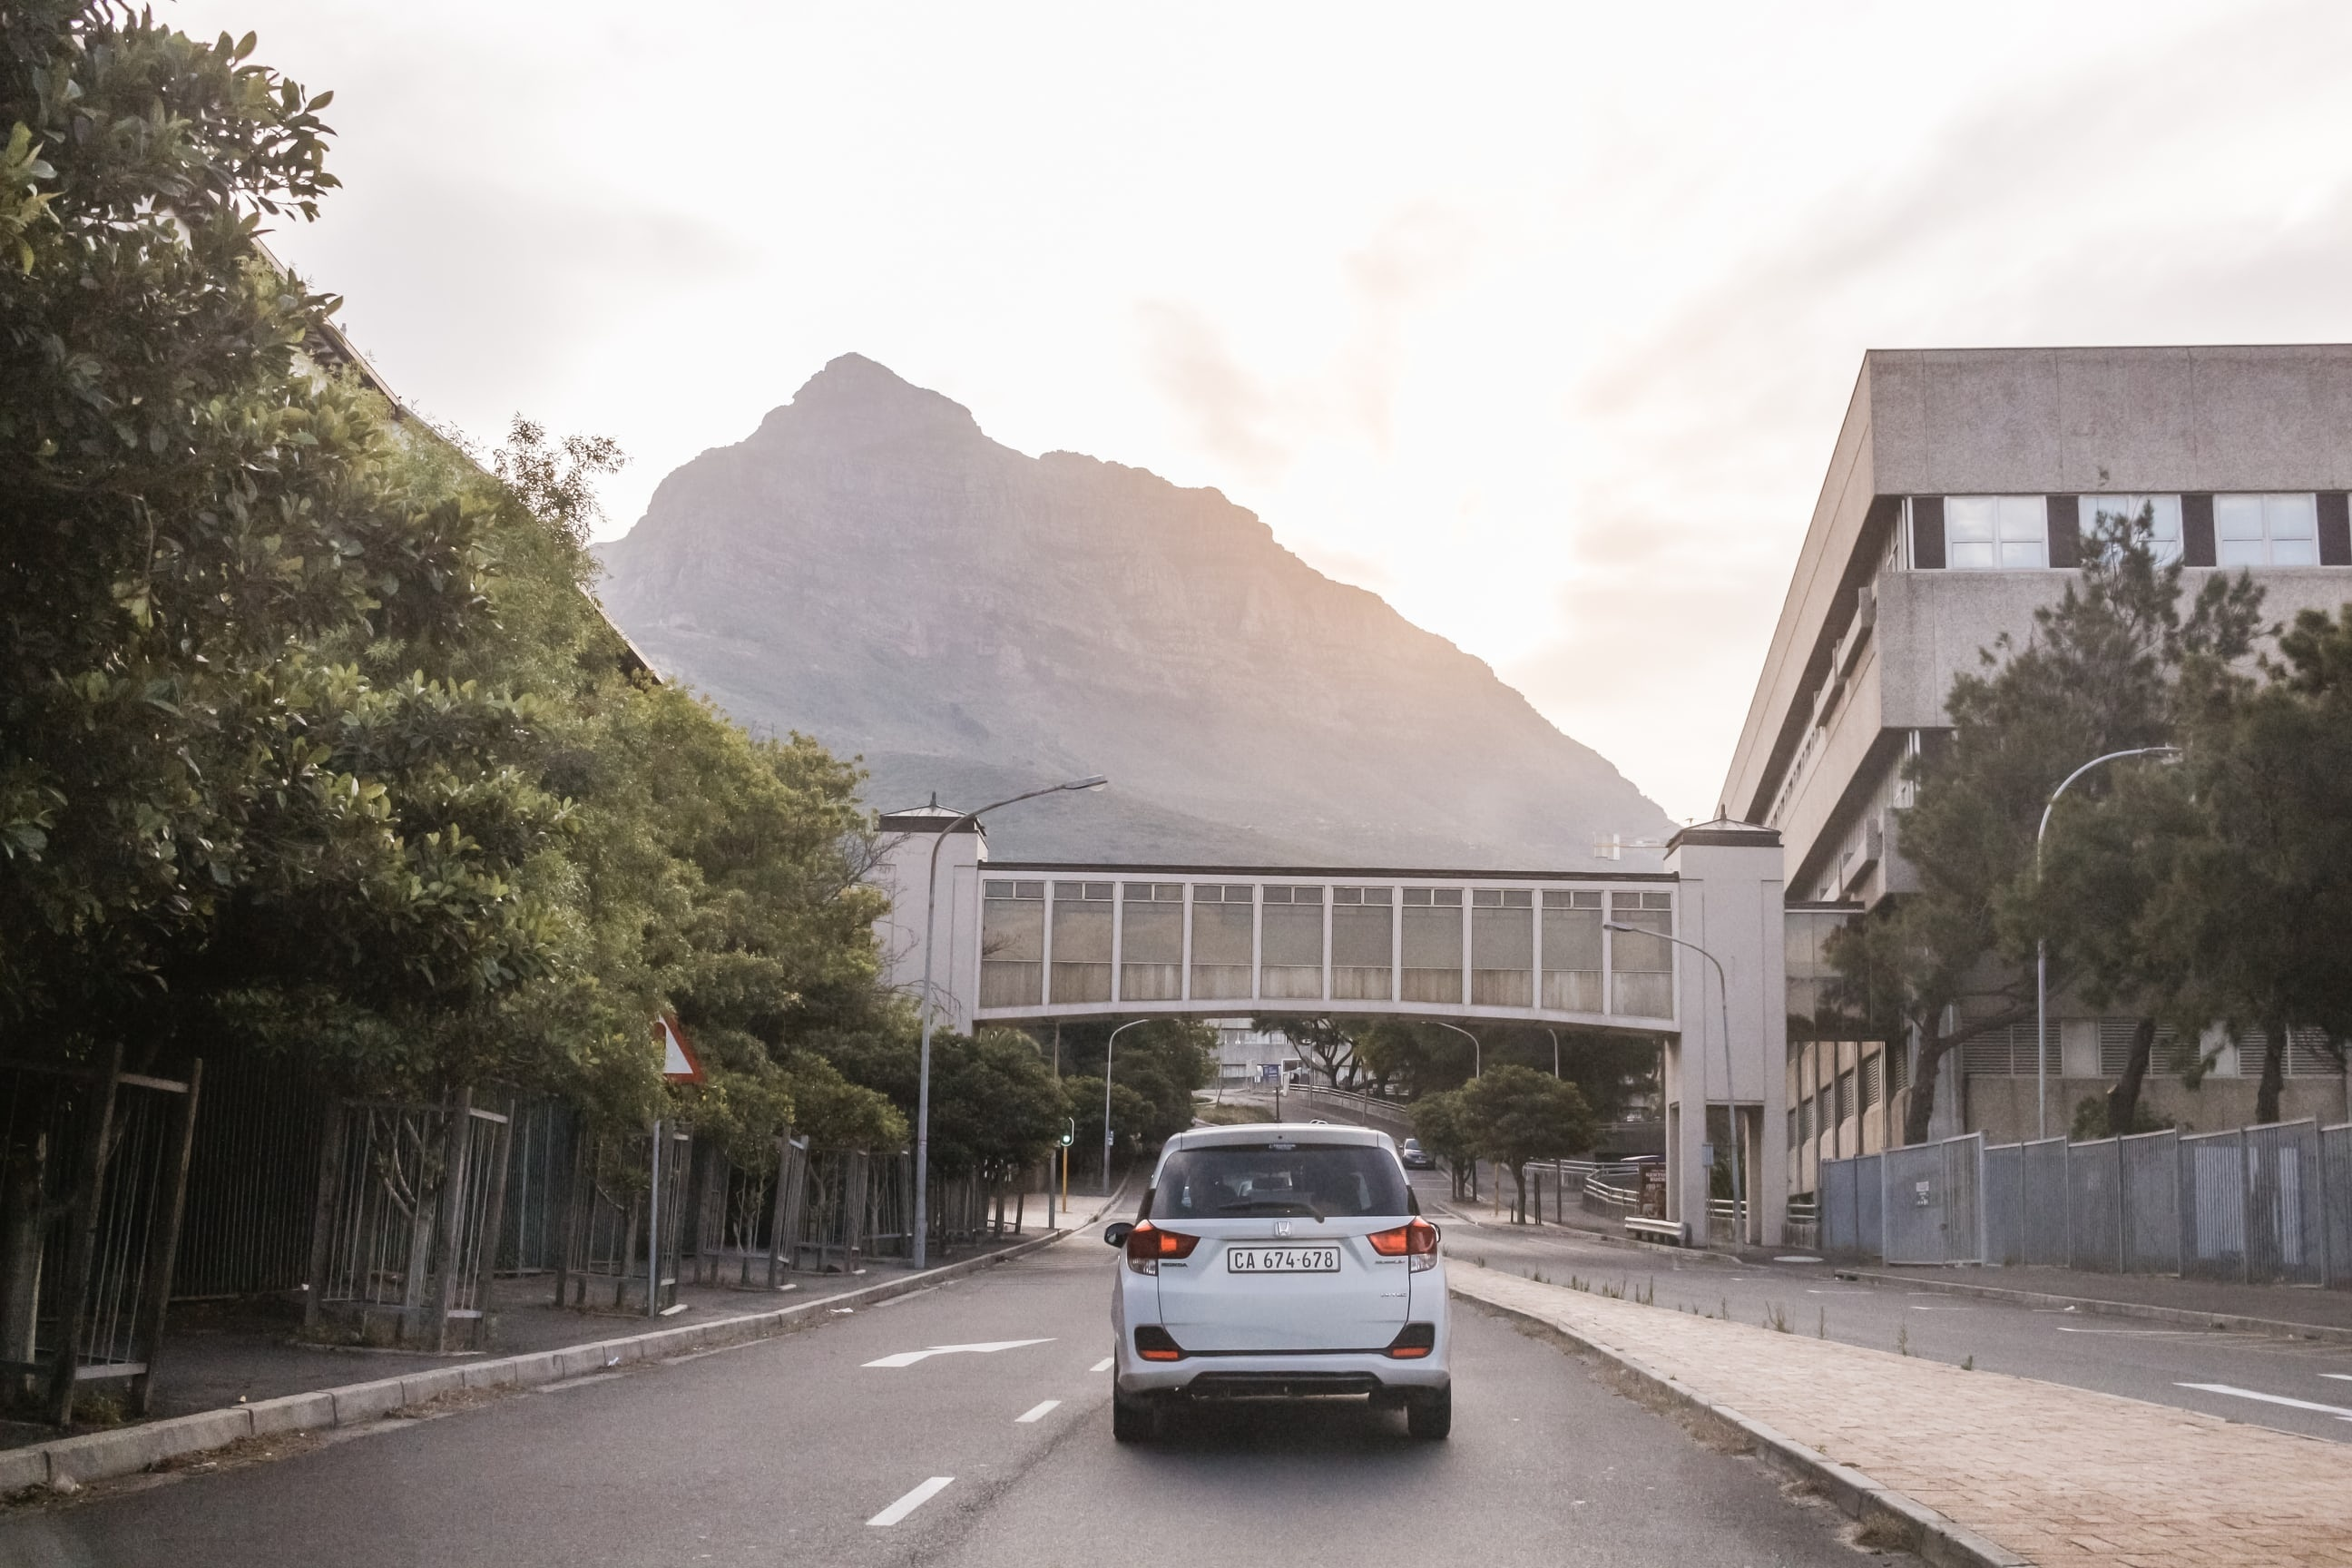plaka: (1227, 1246, 1343, 1274)
